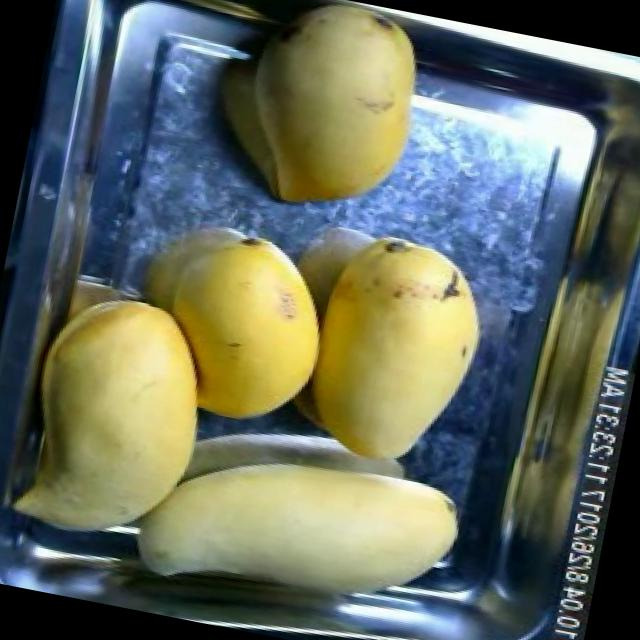fruit: (113, 411, 489, 640), (0, 271, 239, 567), (278, 212, 506, 483), (206, 0, 451, 241), (138, 207, 353, 447)
